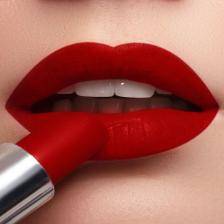red: (0, 42, 219, 224)
